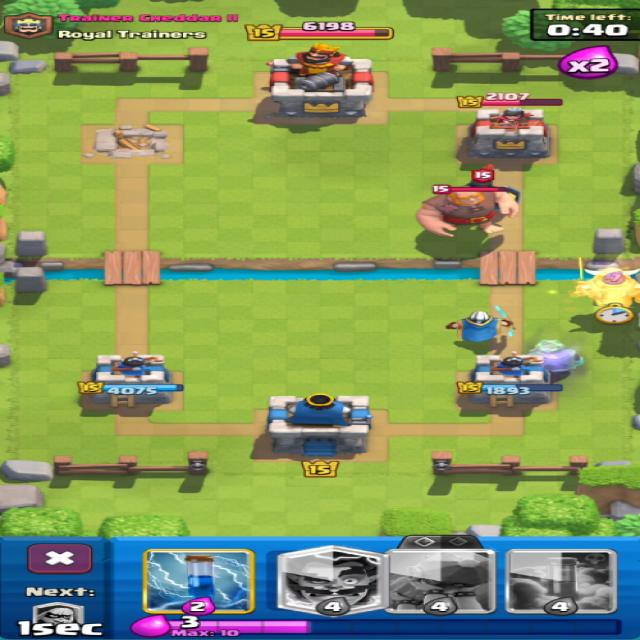Enemy-DarkPrince-Shield: (465, 164, 518, 202)
Enemy-Giant: (418, 190, 514, 233)
Enemy-KingTower: (270, 43, 374, 118)
Enemy-PrincessTower: (467, 106, 549, 158)
Player-KingTower: (266, 392, 372, 456)
Player-MagicArcher: (447, 307, 513, 341)
Player-PEKKA: (573, 259, 639, 306)
Player-PrincessTower: (78, 351, 183, 406), (457, 352, 562, 406)
Player-RoyalGhost-Evo-Invisible: (530, 341, 582, 381)
